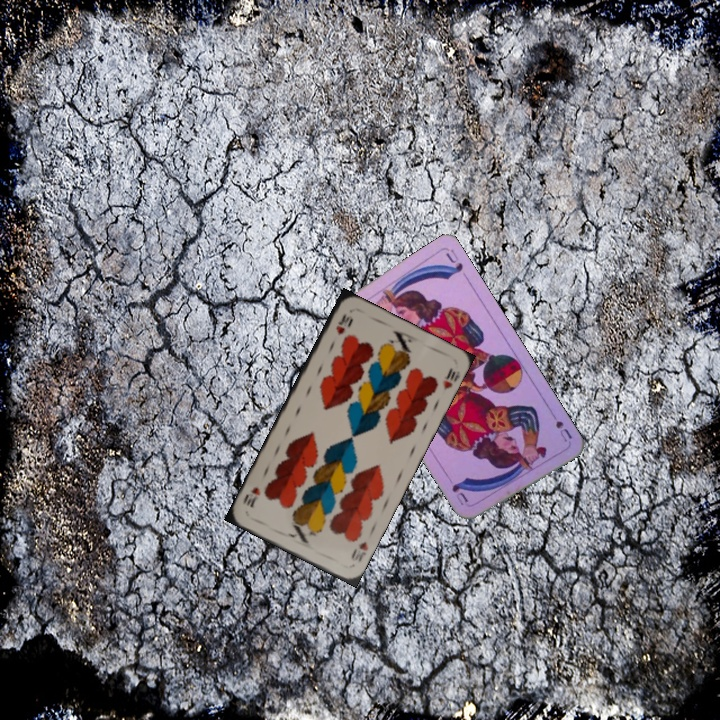H10: (347, 538, 371, 564), (332, 311, 354, 338)
SU: (547, 407, 575, 445)
